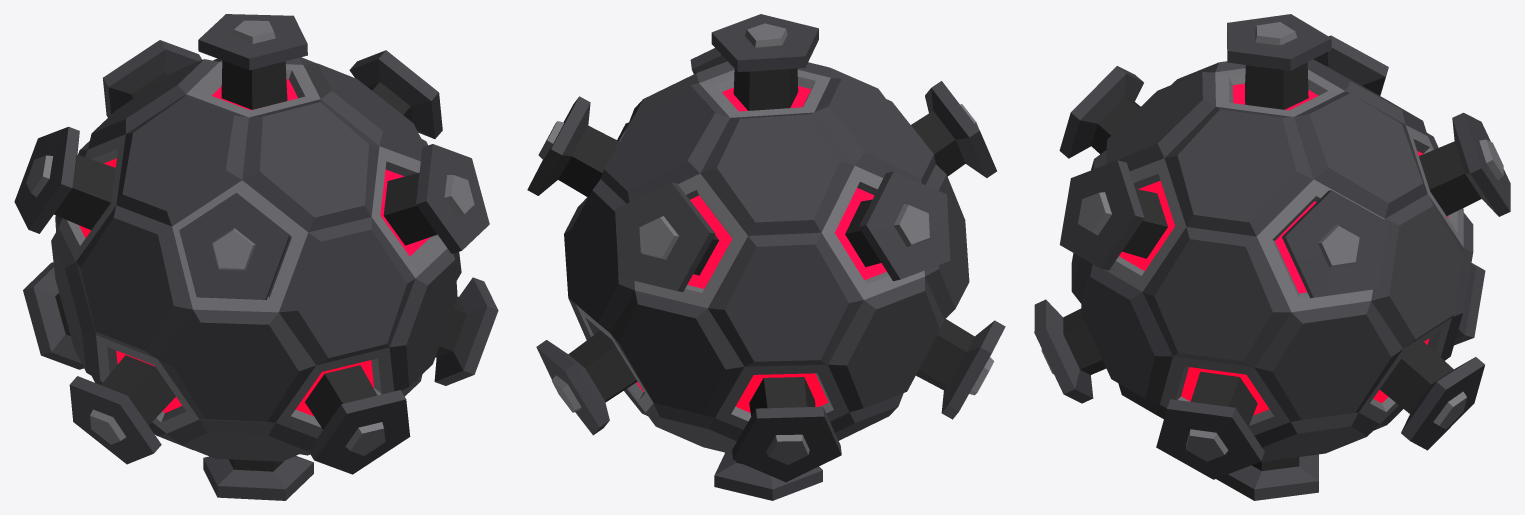
Rendered from SM_Prop_Mine_01.fbx.
3 renders of one model, left to right at view 1: azimuth 30°, elevation 25°; view 2: azimuth 150°, elevation 25°; view 3: azimuth 270°, elevation 25°, orthographic.
Parts seen in each view (by area): view 1: SM_Prop_Mine_01_LOD0; view 2: SM_Prop_Mine_01_LOD0; view 3: SM_Prop_Mine_01_LOD0.
Part boxes in pixels (x1,y1,x2,y2): SM_Prop_Mine_01_LOD0: (14, 14, 498, 500); SM_Prop_Mine_01_LOD0: (527, 14, 1005, 500); SM_Prop_Mine_01_LOD0: (1034, 14, 1510, 500).
Bounding box in the file's own units: 133 × 133 × 140.
1 material, 1 textured.
